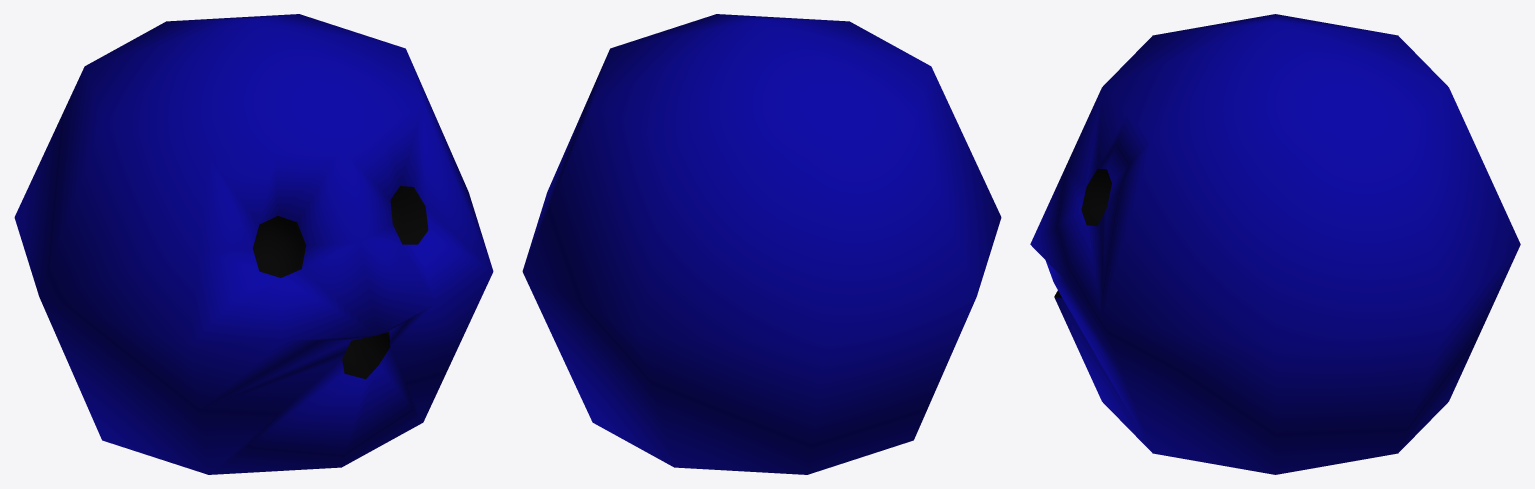
File: BolaNormal.fbx
3 views of the same model, side by side, from view 1: azimuth 30°, elevation 25°; view 2: azimuth 150°, elevation 25°; view 3: azimuth 270°, elevation 25° (orthographic).
Visible parts, largest first — view 1: Sphere; view 2: Sphere; view 3: Sphere.
Part boxes in pixels (left/top/right/bottom): Sphere: left=14, top=14, right=493, bottom=474; Sphere: left=522, top=14, right=1001, bottom=474; Sphere: left=1030, top=14, right=1520, bottom=474.
Size of the model in its own units: 70 by 70 by 70.
